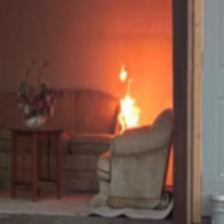fire: (115, 64, 152, 131)
